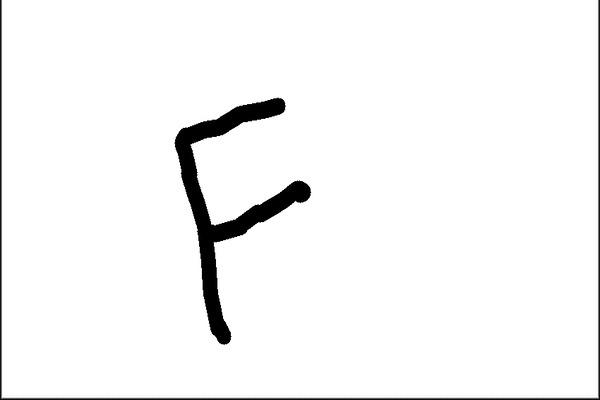F: (170, 93, 316, 347)
